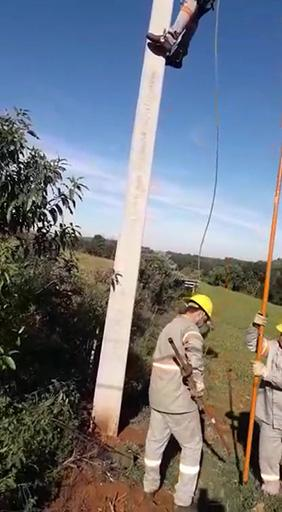Vara_Manobra: (240, 162, 282, 484)
